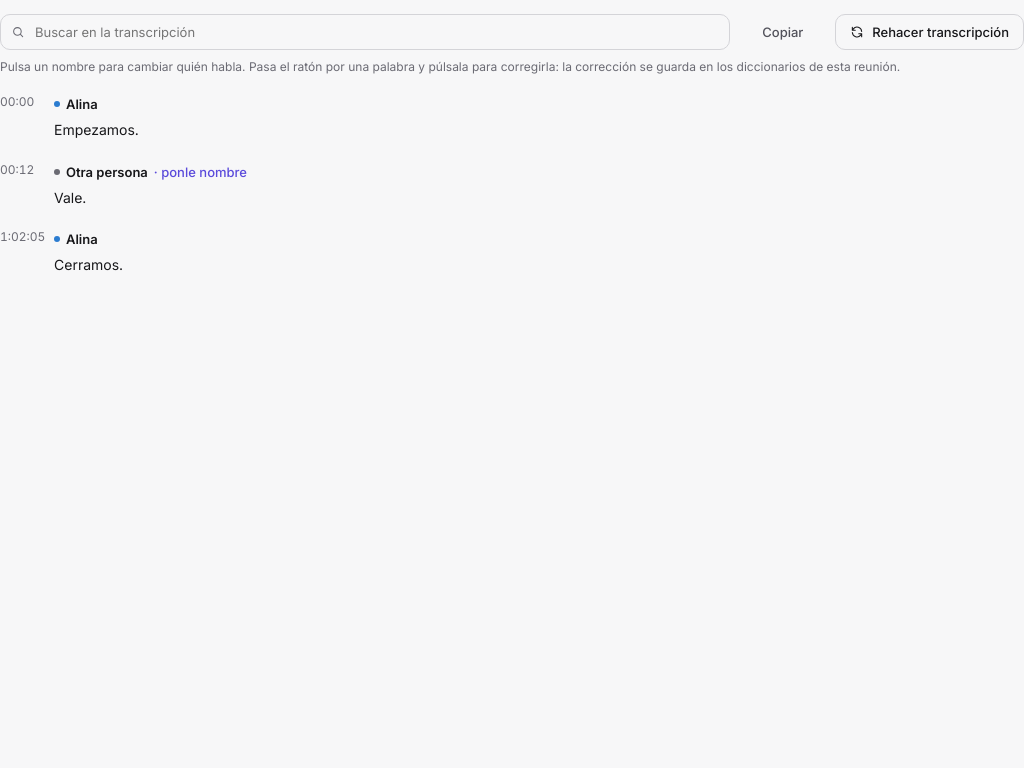
the transcript is what the hub computed › renames any speaker, Alina's microphone too, by the hub's key
The image size is (1024, 768).
Click the button "Alina" next to "00:00" at (76, 104), box 48,92 -> 104,116
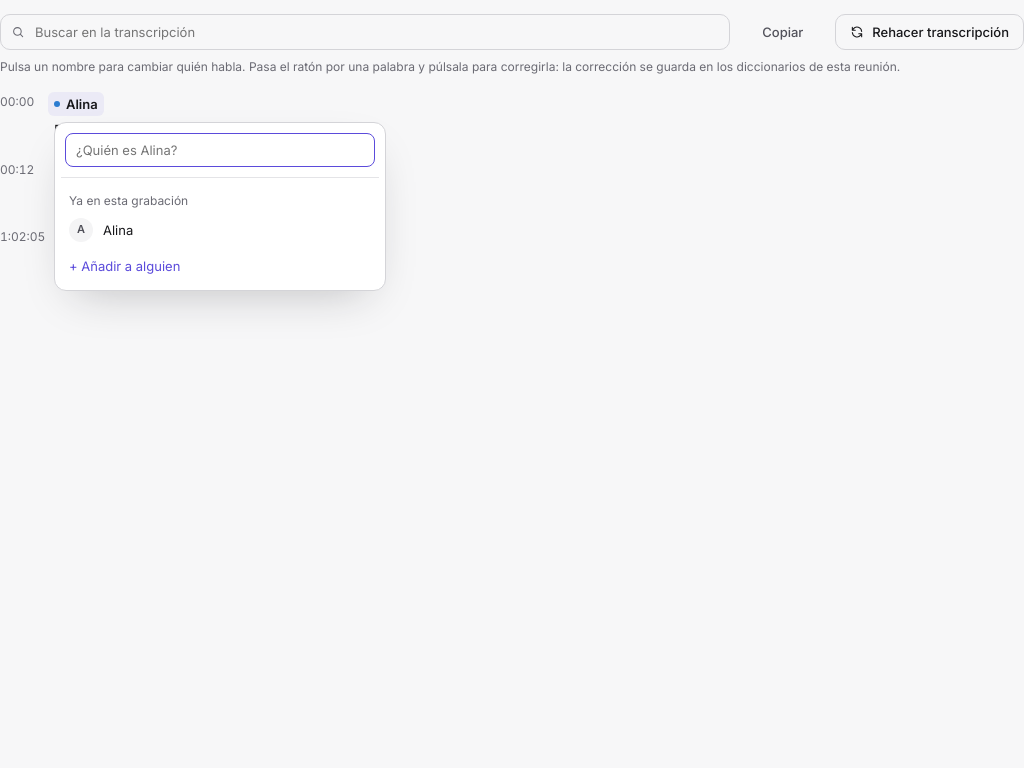
Type "Ada" into the field named "Buscar o añadir un nombre" at (220, 150), box 65,133 -> 375,167
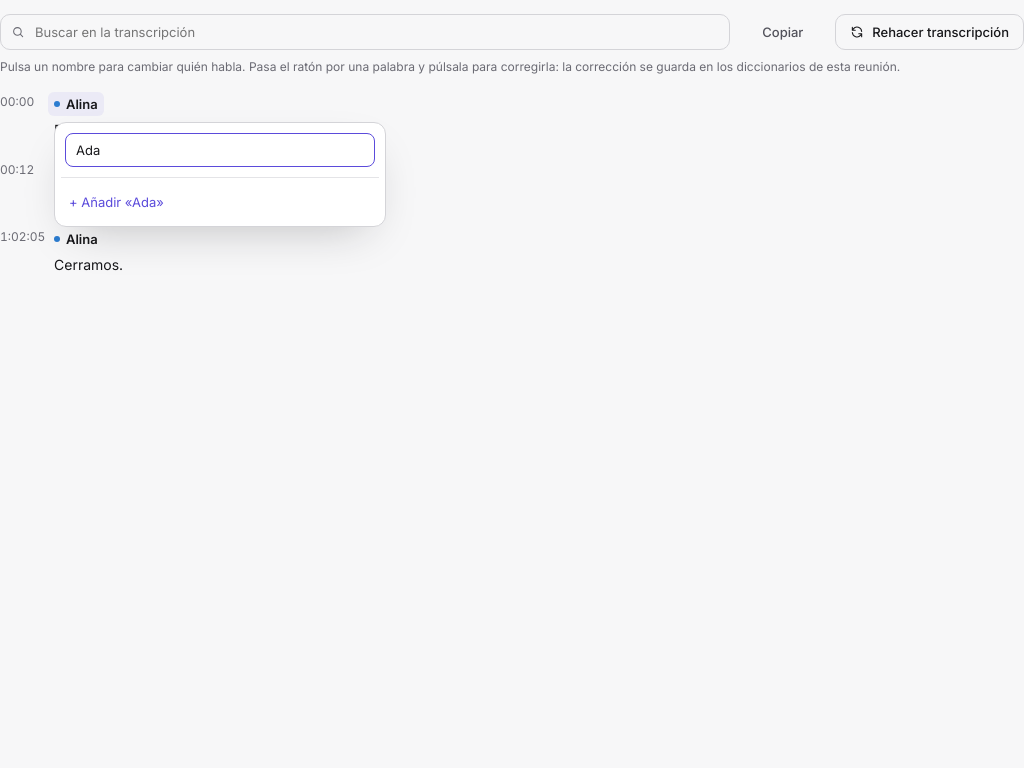
Click the button "+ Añadir «Ada»" at (116, 202), box 61,184 -> 379,220
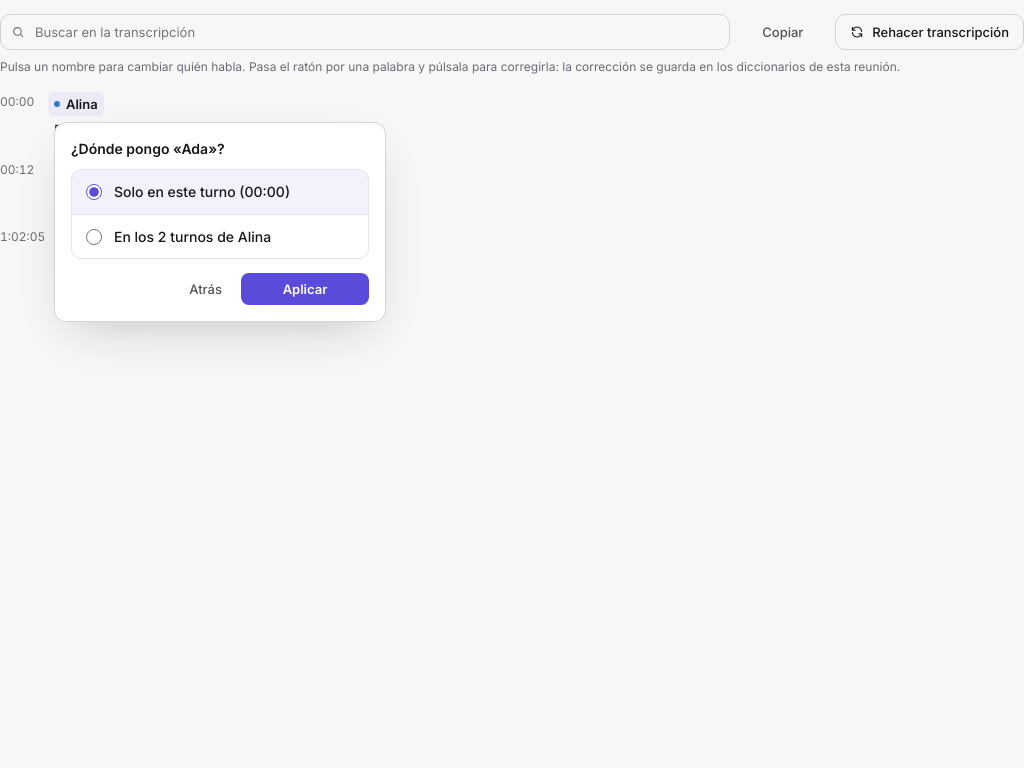
Check: the heading "¿Dónde pongo «Ada»?" is shown, box 71,140 -> 225,157
Check: the radio button labelled "Solo en este turno (00:00)" is checked, box 86,184 -> 102,200
Click the button "Aplicar" at (305, 289), box 241,273 -> 369,305
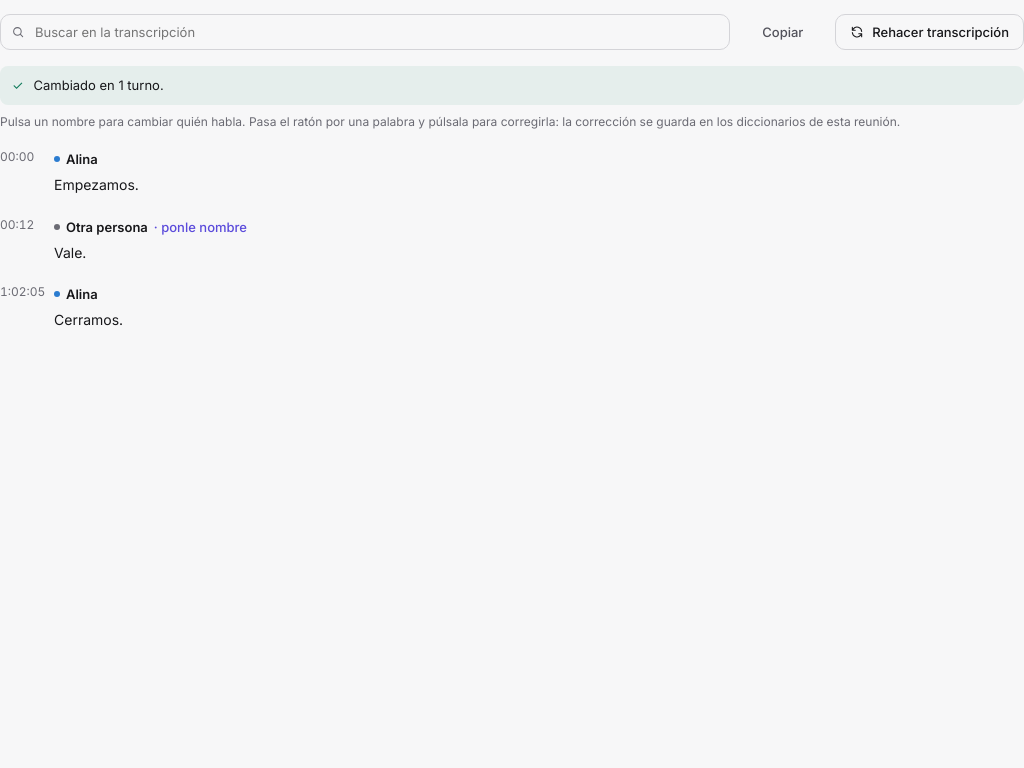
Check: the dialog is gone
Check: the message reads "✓ Cambiado en 1 turno.", box 0,66 -> 1023,105
